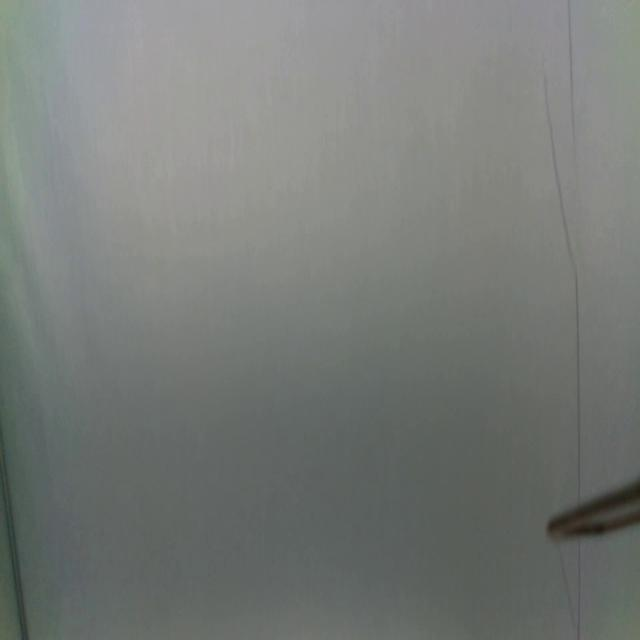crease: (0, 429, 30, 639), (536, 60, 568, 250), (574, 261, 584, 512), (566, 2, 579, 159), (575, 535, 586, 640)
